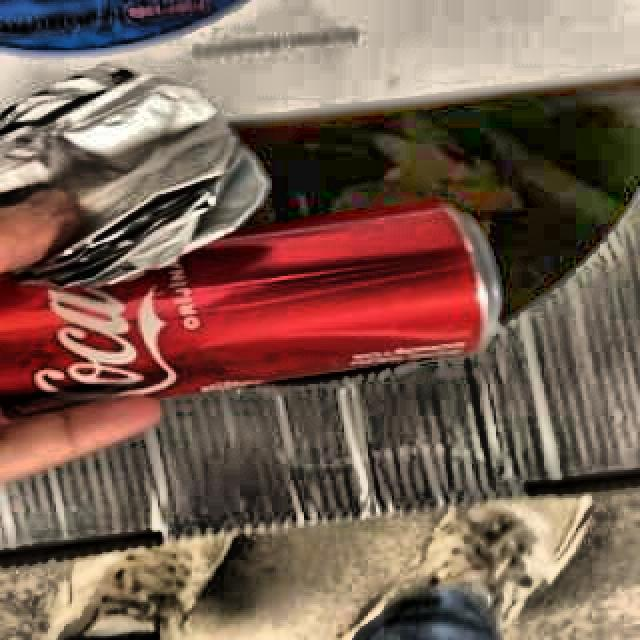metal: (0, 206, 501, 419)
